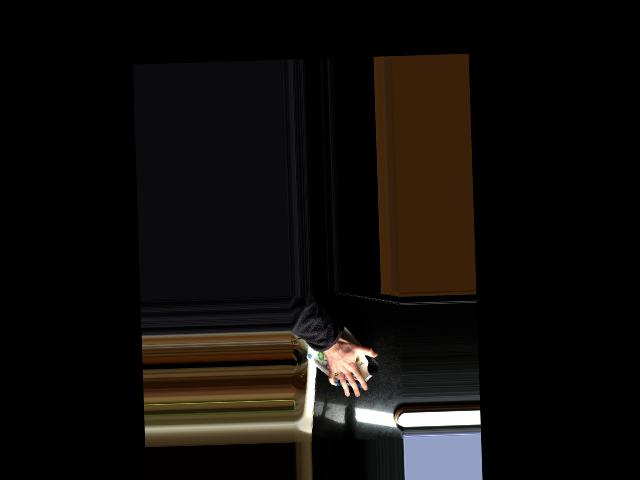cheese: (302, 320, 380, 397)
